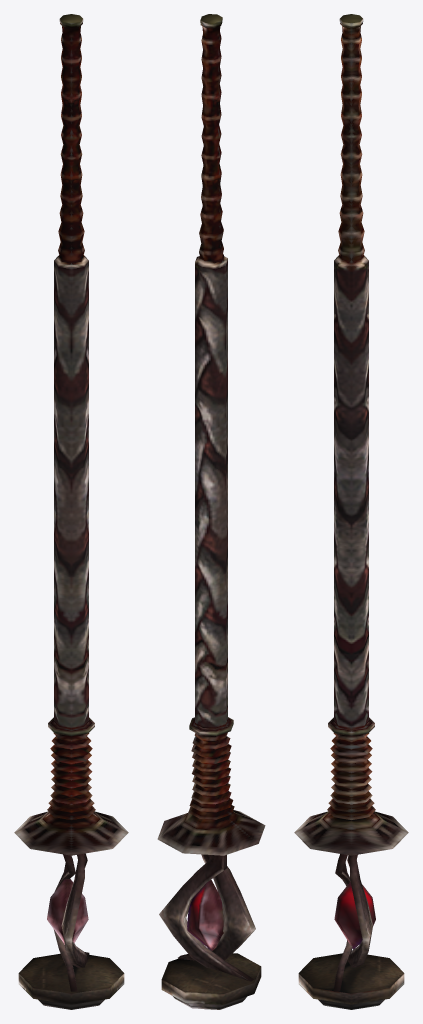
Rendered from chiyan_grip_default.FBX.
3 views of the same model, side by side, from view 1: azimuth 90°, elevation 25°; view 2: azimuth 150°, elevation 25°; view 3: azimuth 270°, elevation 25° (orthographic).
Parts seen in each view (by area): view 1: chiyan_grip_default; view 2: chiyan_grip_default; view 3: chiyan_grip_default.
Boxes of the visible parts, left/top/right/bottom form: chiyan_grip_default: left=14, top=14, right=128, bottom=1009; chiyan_grip_default: left=157, top=14, right=265, bottom=1009; chiyan_grip_default: left=294, top=14, right=408, bottom=1009.
Size of the model in its own units: 17.58 by 174 by 18.49.
1 material, 1 textured.
